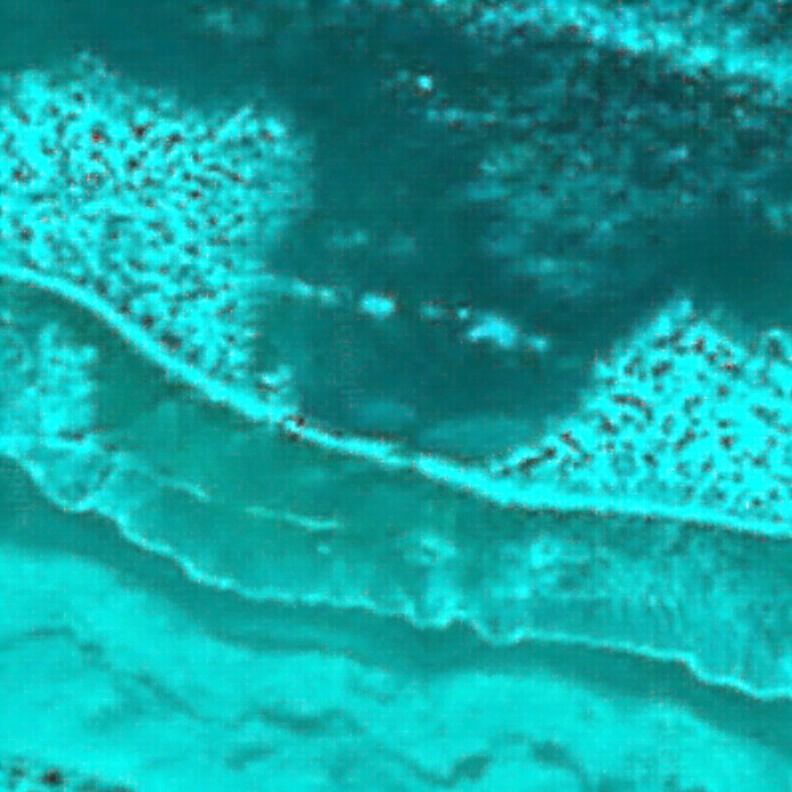rip_current: (208, 54, 644, 625)
